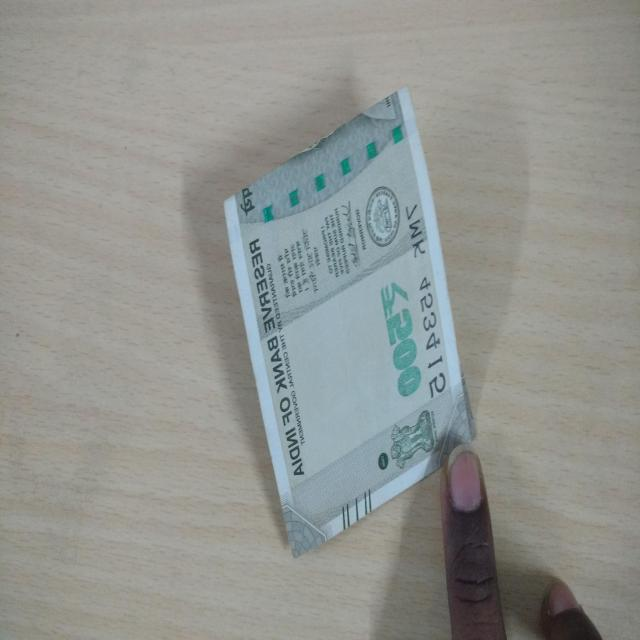Currency: (203, 77, 483, 533)
